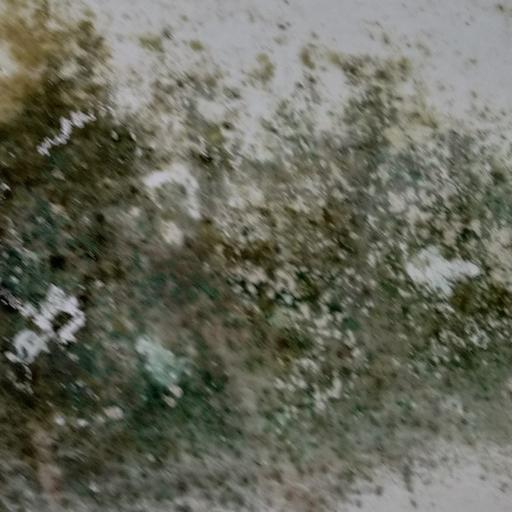algae: (2, 59, 504, 496)
